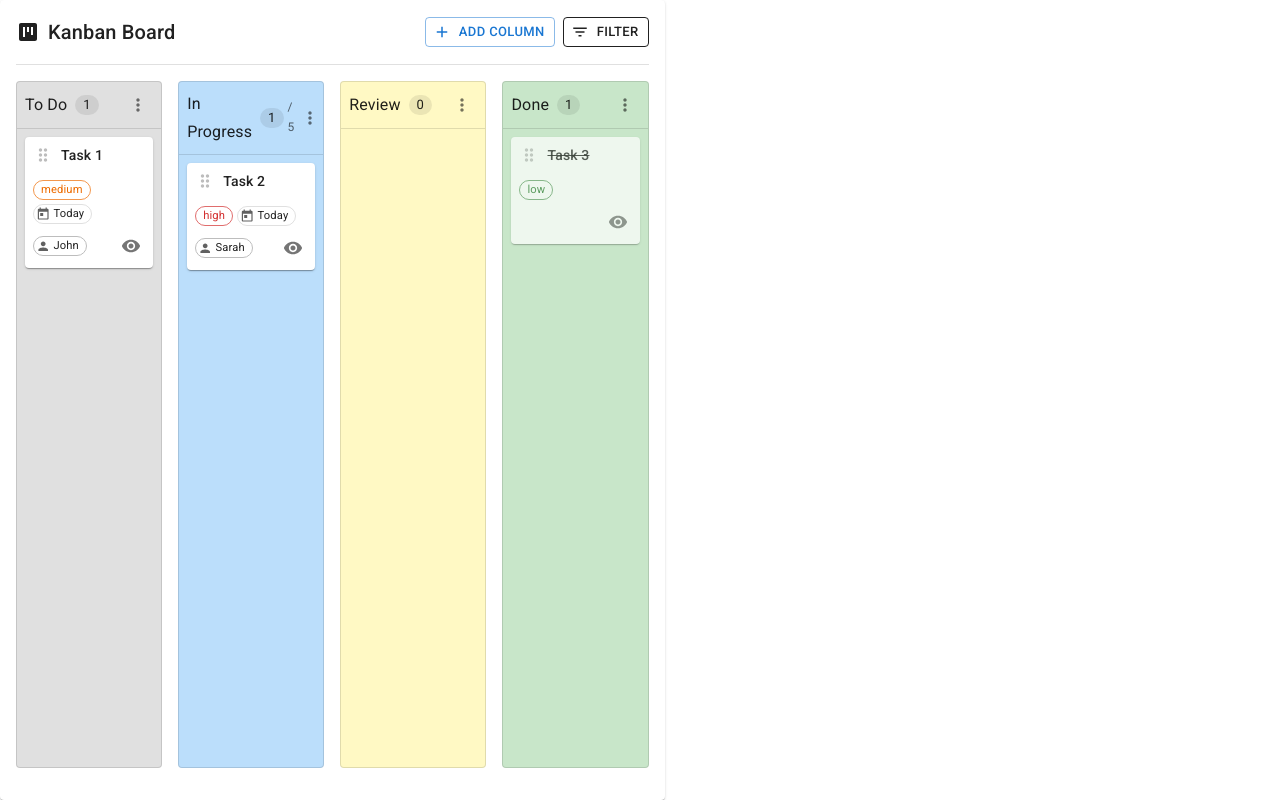
Test: TaskKanbanBoard › opens column dialog when Add Column button is clicked
Step 1. Click the button "Add Column" → [490, 32], box [425,17,555,47]
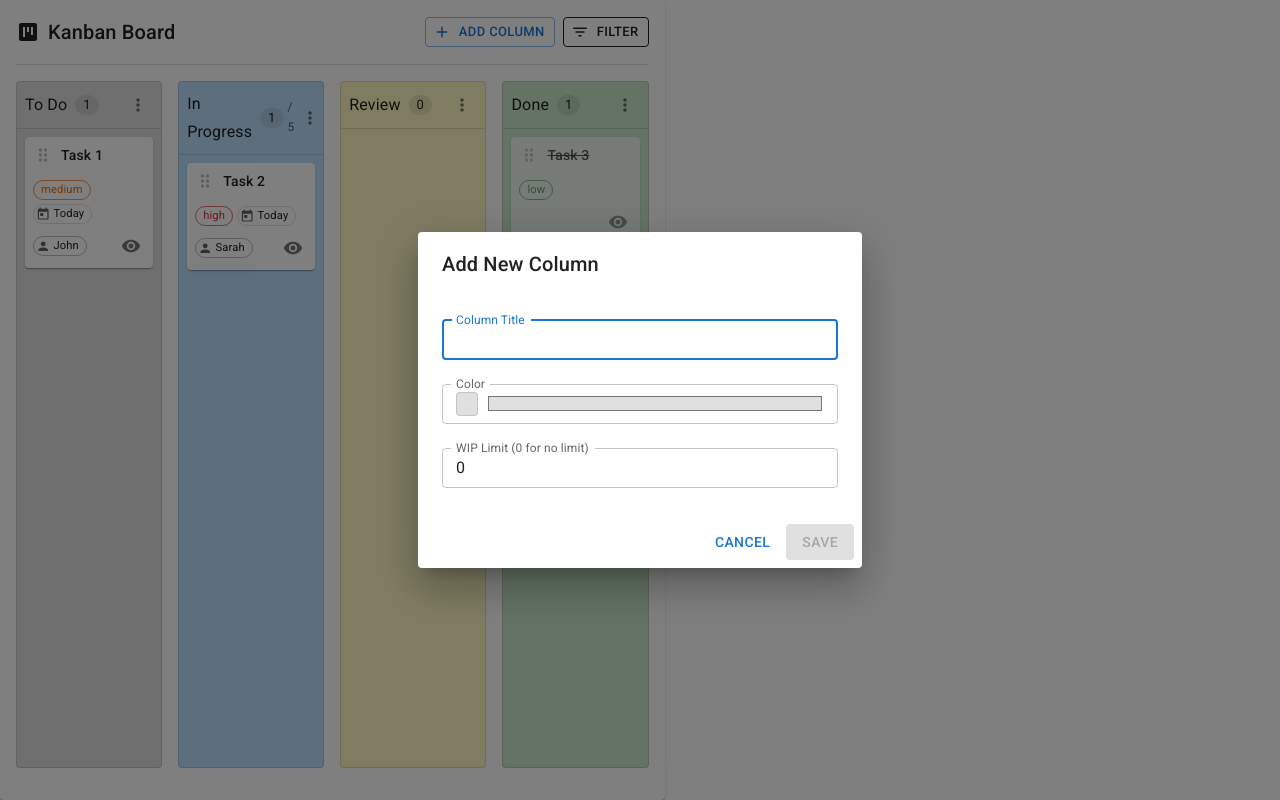
Result: the heading "Add New Column" is shown at [442,252,599,276]
